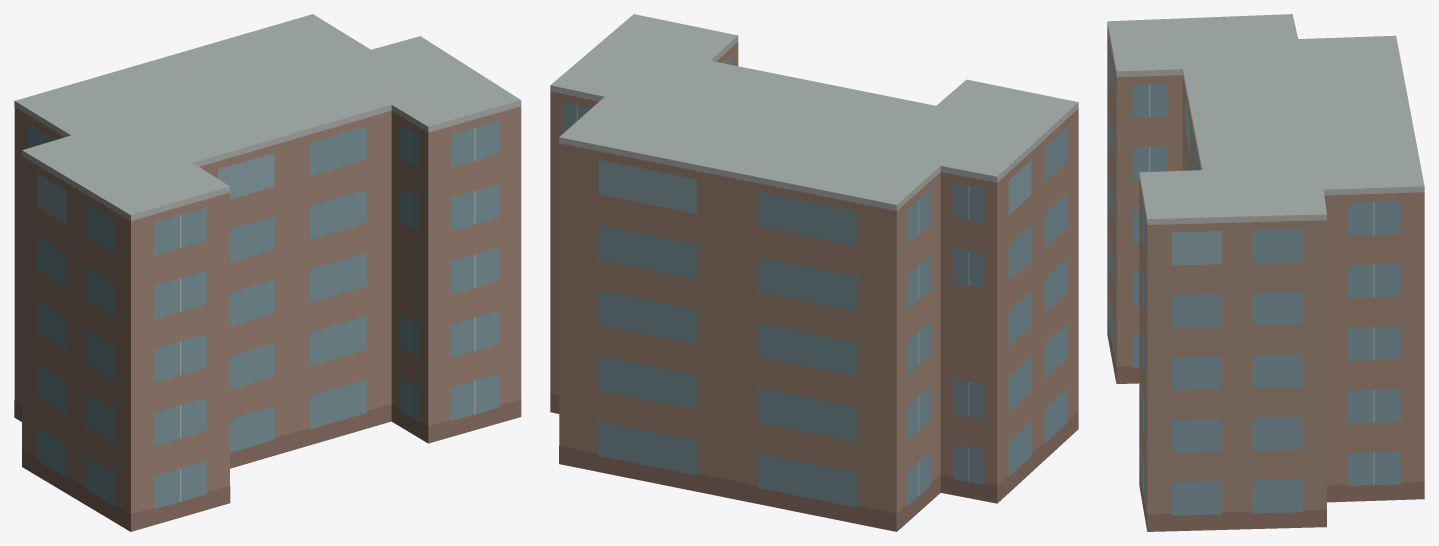
File: survey-upis-32981676.glb
3 renders of one model, left to right at view 1: azimuth 30°, elevation 25°; view 2: azimuth 150°, elevation 25°; view 3: azimuth 270°, elevation 25°, orthographic. The views are drawn at different scales.
Visible parts, largest first — view 1: survey-upis-32981676.tmp; view 2: survey-upis-32981676.tmp; view 3: survey-upis-32981676.tmp.
Boxes of the visible parts, x1,y1,x2,y2 form: survey-upis-32981676.tmp: (14, 14, 521, 531); survey-upis-32981676.tmp: (550, 14, 1078, 531); survey-upis-32981676.tmp: (1107, 14, 1424, 531).
Bounding box in the file's own units: 18.44 × 13.1 × 12.06.
